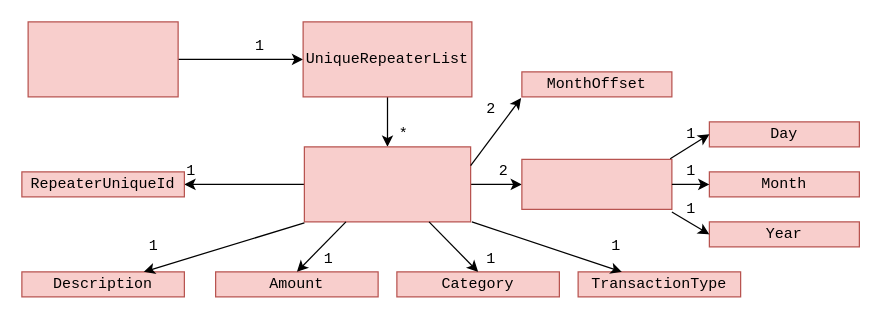
Image size: 881x319. Some labels were removed from this diagram. The box of each missing label's shape, as (x1, y1, x2, y2) in pixels:
Date: (521, 158, 672, 209)
FundBook: (27, 21, 178, 97)
Repeater: (303, 146, 471, 222)
